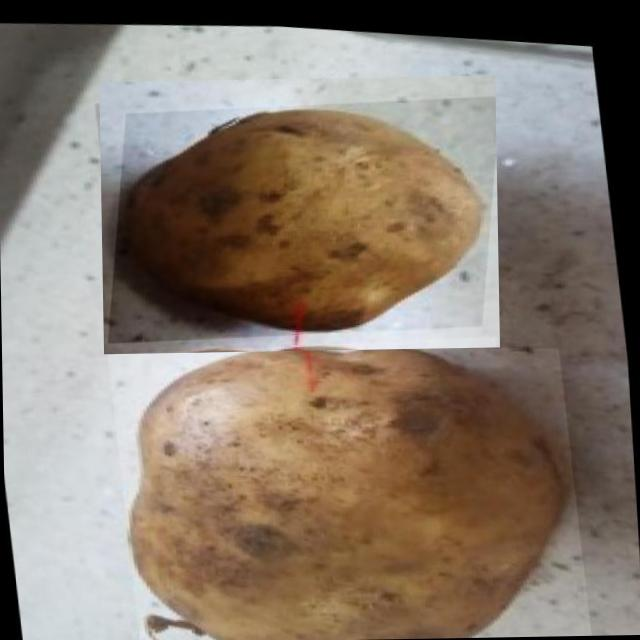Potato: (105, 309, 593, 640), (98, 75, 498, 354)
